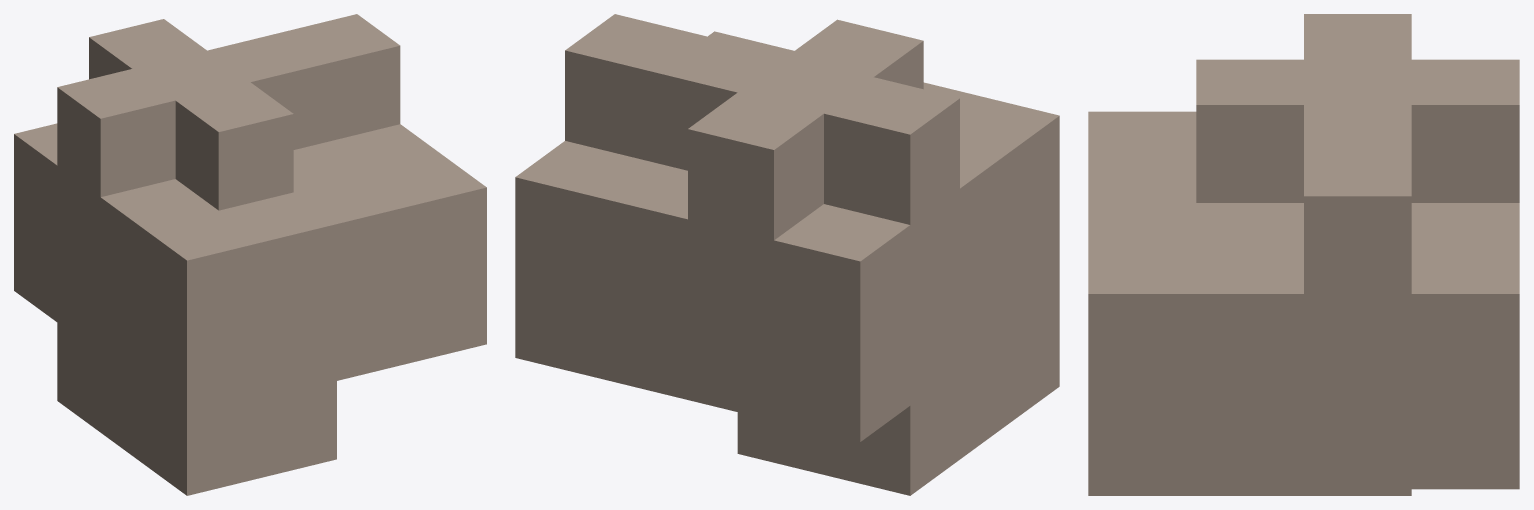
The model's file is Hand.obj.
The picture shows the model from 3 angles, left to right: view 1: azimuth 30°, elevation 25°; view 2: azimuth 150°, elevation 25°; view 3: azimuth 270°, elevation 25°; orthographic projection. The views are drawn at different scales.
Bounding box in the file's own units: 0.4 × 0.4 × 0.4.
Materials: 1 (1 with a texture image).
